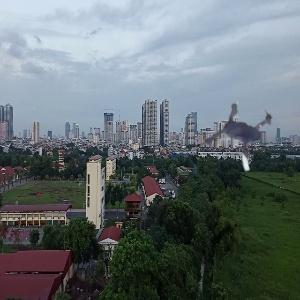drone: (185, 92, 299, 206)
